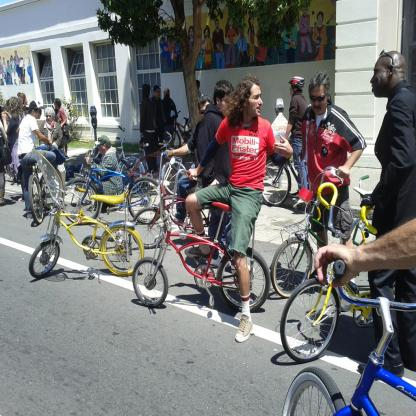Helmet: (287, 74, 304, 97)
